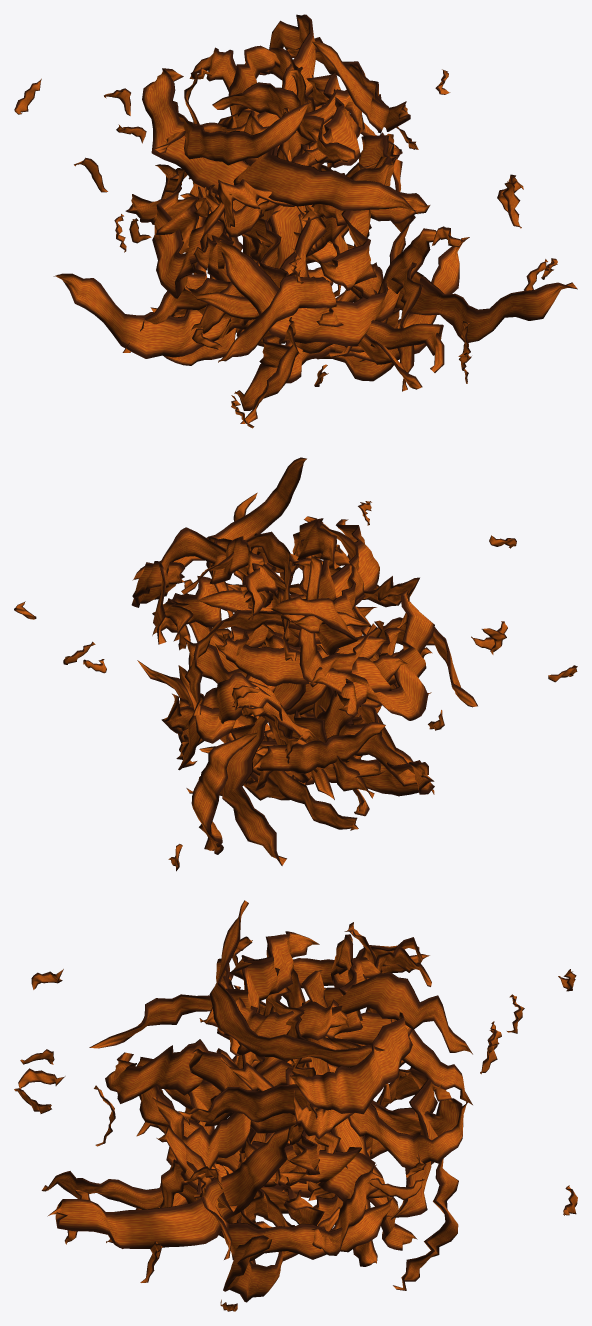
Rendered from fried-onions.glb.
3 views of the same model, one above another, from view 1: azimuth 30°, elevation 25°; view 2: azimuth 150°, elevation 25°; view 3: azimuth 270°, elevation 25° (orthographic). The views are drawn at different scales.
Parts seen in each view (by area): view 1: crispy-birista-cluster; view 2: crispy-birista-cluster; view 3: crispy-birista-cluster.
Boxes of the visible parts, x1,y1,x2,y2 form: crispy-birista-cluster: (14,14,577,428); crispy-birista-cluster: (14,457,577,871); crispy-birista-cluster: (14,900,577,1311).
Bounding box in the file's own units: 0.1368 × 0.1066 × 0.1445.
1 material, 1 textured.
